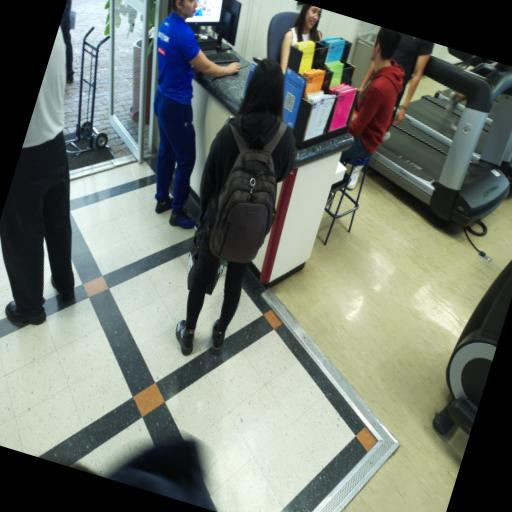person: (176, 59, 283, 355), (0, 29, 74, 325), (154, 0, 240, 229), (341, 27, 404, 161), (392, 34, 434, 125), (280, 4, 321, 73), (59, 0, 74, 84), (446, 92, 466, 119)
